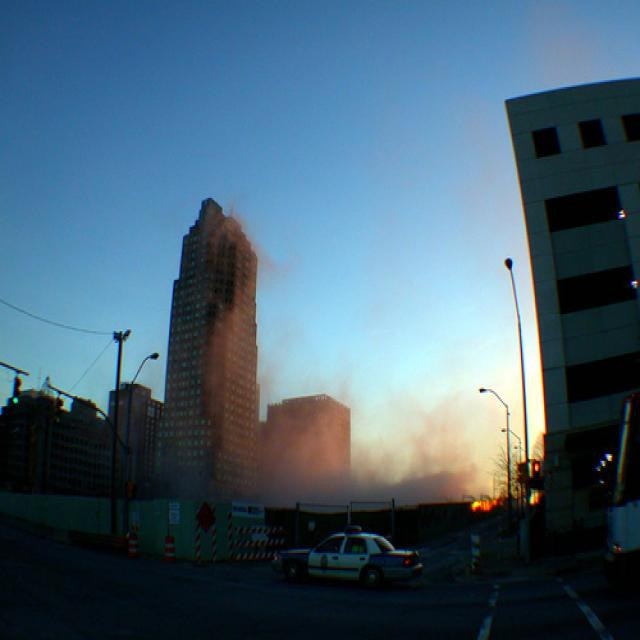car: (271, 522, 423, 593)
